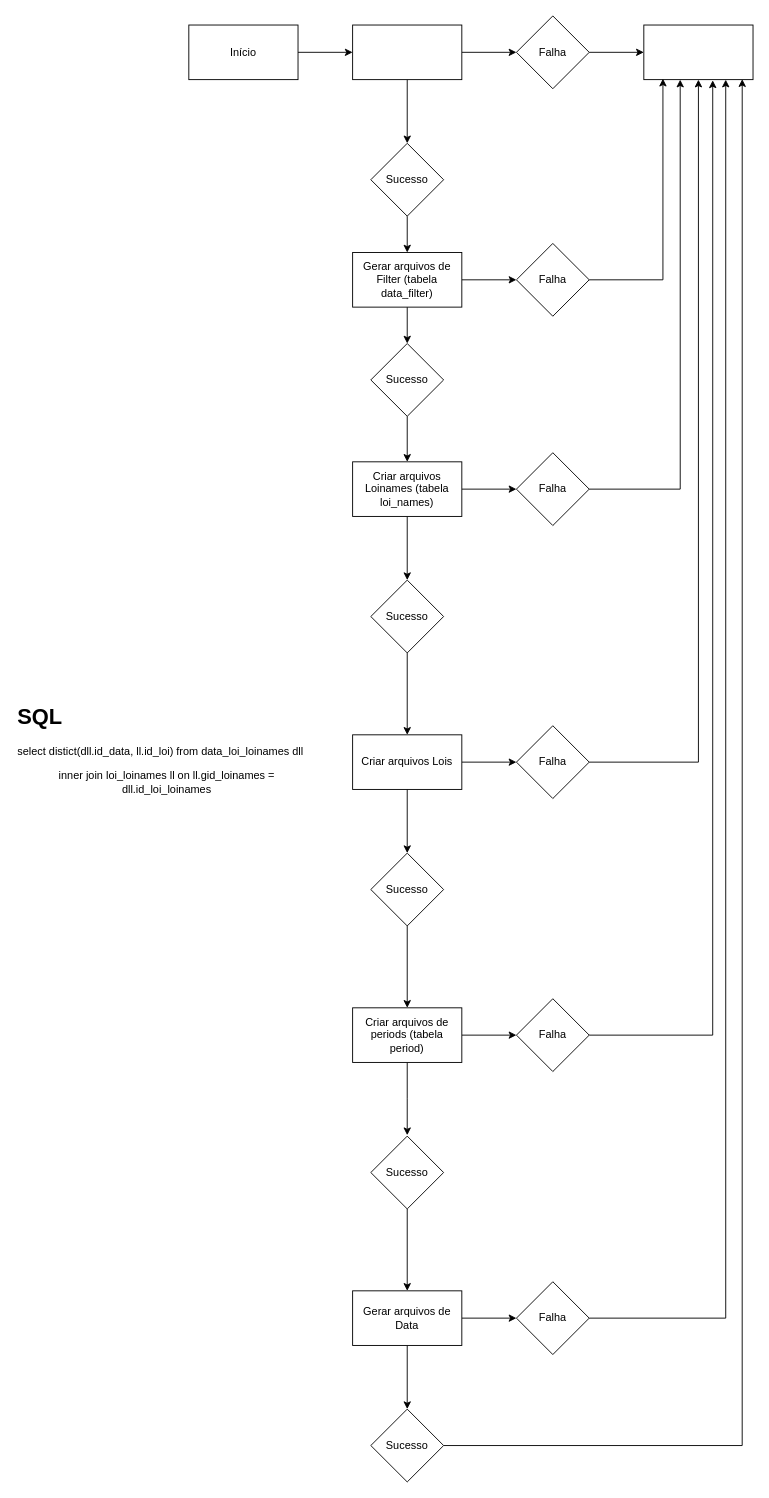
Some shapes in this 769 by 1498 pixel diagram are drawn without their labels. The centre of each missing label's shape, as x and y in pixels:
Fim: the point at 698,52
Gerar arquivos de classe (tabela data_class): the point at 407,52
